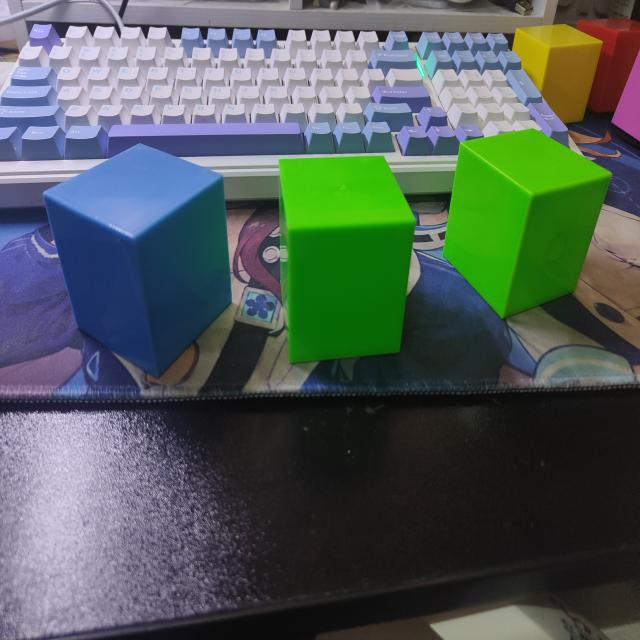blue: (42, 145, 233, 380)
green: (442, 130, 613, 321), (278, 155, 417, 367)
